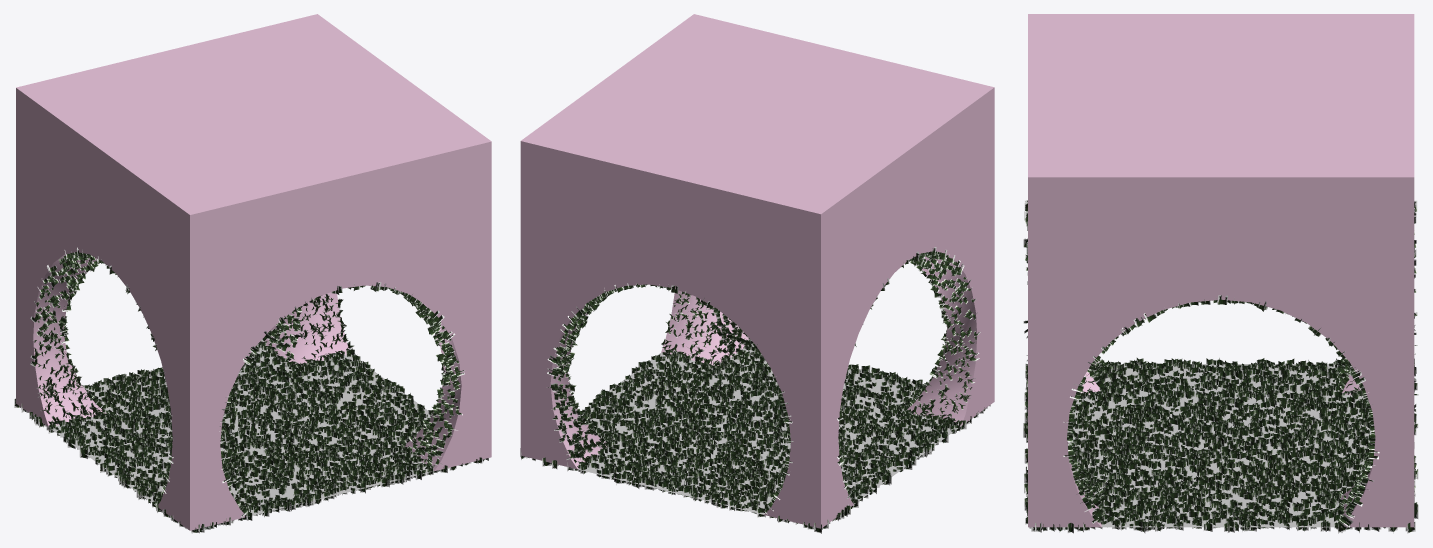
File: Stage1Cross.fbx
The picture shows the model from 3 angles, left to right: view 1: azimuth 30°, elevation 25°; view 2: azimuth 150°, elevation 25°; view 3: azimuth 270°, elevation 25°; orthographic projection. The views are drawn at different scales.
Visible parts, largest first — view 1: Cube, Scattered_Tunnel_Ivy_Road, Scattered_Tunnel_Ivy_Cross, Road; view 2: Cube, Scattered_Tunnel_Ivy_Road, Scattered_Tunnel_Ivy_Cross, Road; view 3: Cube, Scattered_Tunnel_Ivy_Road, Road, Scattered_Tunnel_Ivy_Cross.
Part boxes in pixels (x1,y1,x2,y2): Cube: (16, 14, 491, 530); Scattered_Tunnel_Ivy_Road: (14, 341, 488, 533); Scattered_Tunnel_Ivy_Cross: (30, 247, 465, 517); Road: (51, 348, 431, 516); Cube: (520, 14, 994, 528); Scattered_Tunnel_Ivy_Road: (520, 343, 990, 533); Scattered_Tunnel_Ivy_Cross: (547, 247, 980, 514); Road: (578, 344, 960, 514); Cube: (1028, 14, 1414, 527); Scattered_Tunnel_Ivy_Road: (1023, 357, 1418, 533); Road: (1073, 364, 1371, 527); Scattered_Tunnel_Ivy_Cross: (1023, 200, 1418, 532).
Size of the model in its own units: 20.52 by 20.41 by 20.45.
